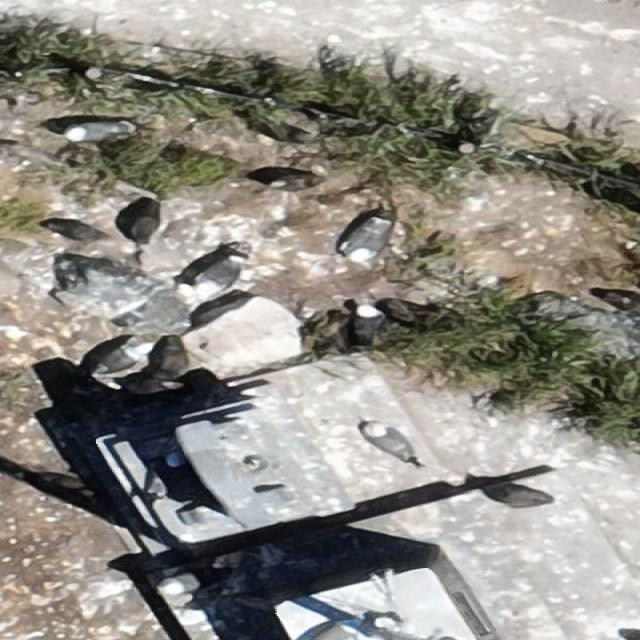umineko: (361, 421, 418, 465), (346, 212, 393, 260), (198, 252, 244, 297), (87, 344, 152, 374), (350, 304, 380, 350), (71, 122, 119, 142)
